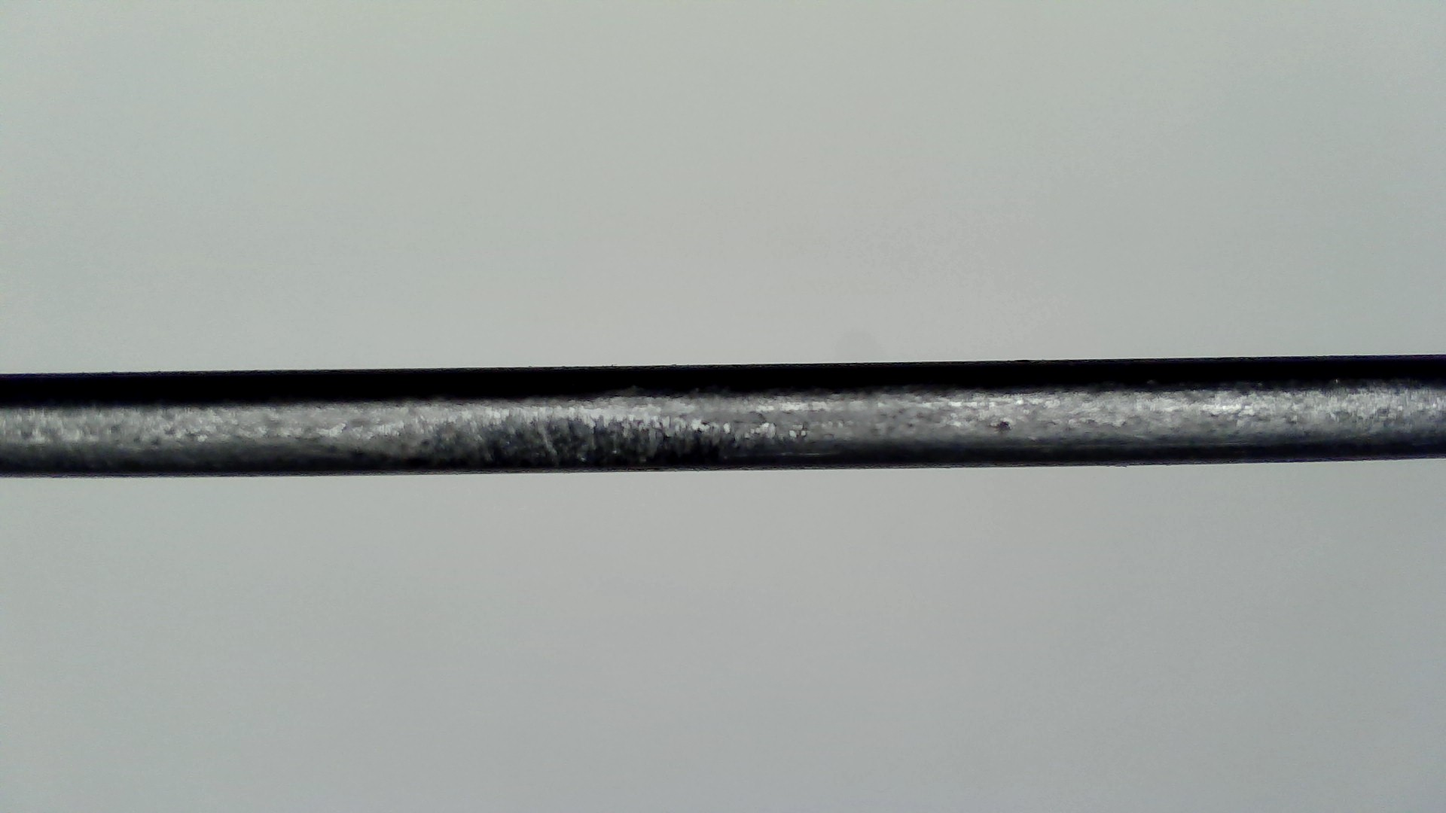defect: (329, 388, 837, 479)
